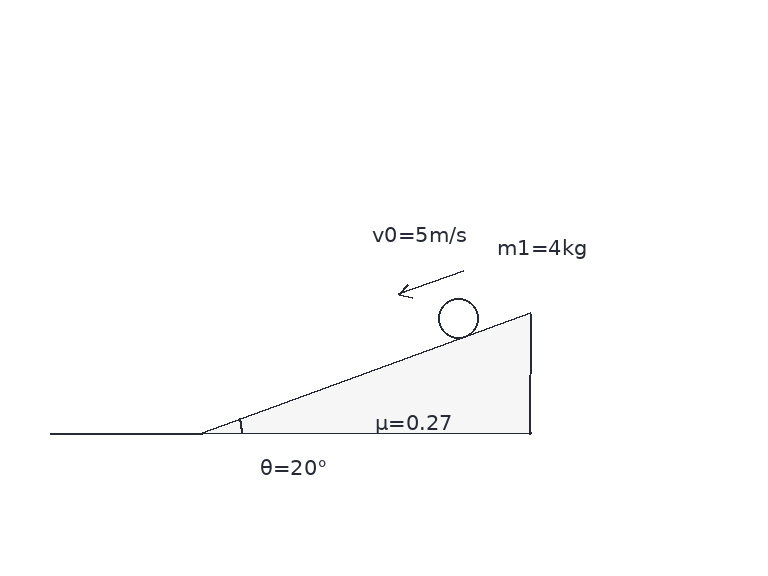ball: (436, 296, 480, 340)
ramp: (200, 311, 533, 435)
